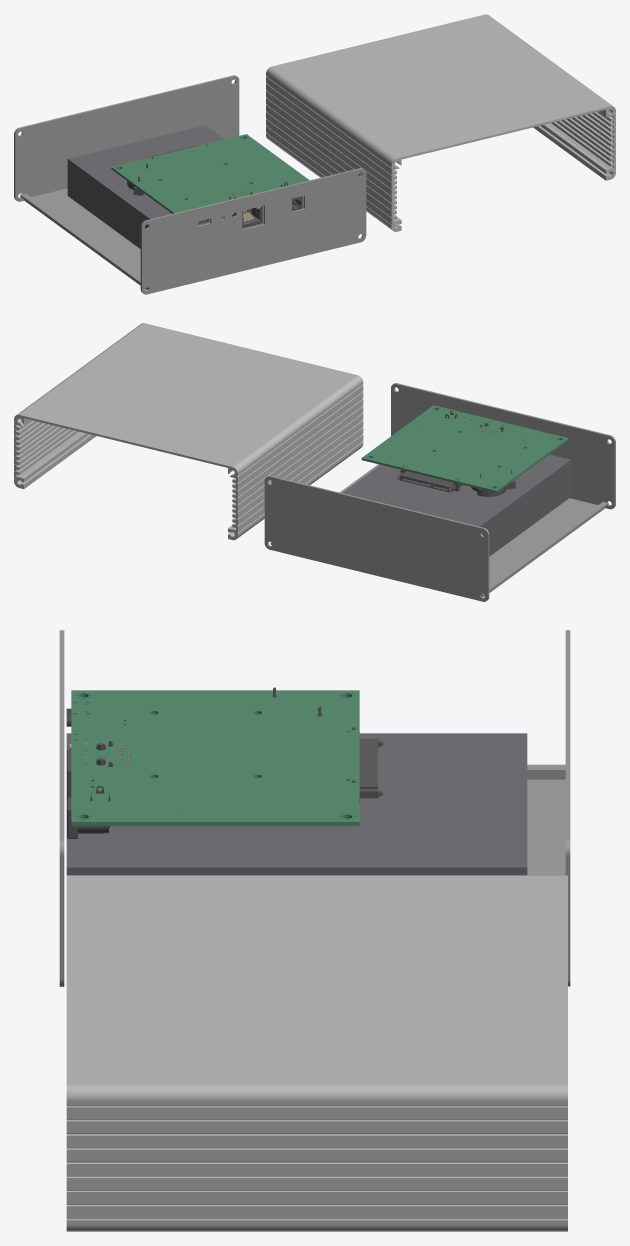
The model's file is assembly-compact.glb.
3 renders of one model, top to bottom at view 1: azimuth 30°, elevation 25°; view 2: azimuth 150°, elevation 25°; view 3: azimuth 270°, elevation 25°, orthographic. The views are drawn at different scales.
Visible parts, largest first — view 1: Case, EndPlate_Front, EndPlate_Back, PCB_Board, HDD, BellyPlate, PCB_Conn; view 2: Case, EndPlate_Back, PCB_Board, HDD, EndPlate_Front, BellyPlate, PCB_Conn; view 3: Case, PCB_Board, HDD, BellyPlate, PCB_Conn, EndPlate_Front, EndPlate_Back.
Boxes of the visible parts, x1,y1,x2,y2 form: Case: (266,14,615,231); EndPlate_Front: (140,168,366,294); EndPlate_Back: (14,75,239,201); PCB_Board: (111,134,309,213); HDD: (67,125,303,248); BellyPlate: (20,188,303,289); PCB_Conn: (127,144,302,227); Case: (14,323,363,540); EndPlate_Back: (264,475,489,601); PCB_Board: (361,405,568,492); HDD: (342,454,571,556); EndPlate_Front: (391,383,615,509); BellyPlate: (270,464,608,597); PCB_Conn: (397,410,515,496); Case: (66,875,567,1231); PCB_Board: (71,690,359,826); HDD: (66,733,527,875); BellyPlate: (527,764,565,875); PCB_Conn: (67,687,383,838); EndPlate_Front: (59,630,64,986); EndPlate_Back: (565,630,570,986).
Bounding box in the file's own units: 0.35 × 0.0515 × 0.163.
